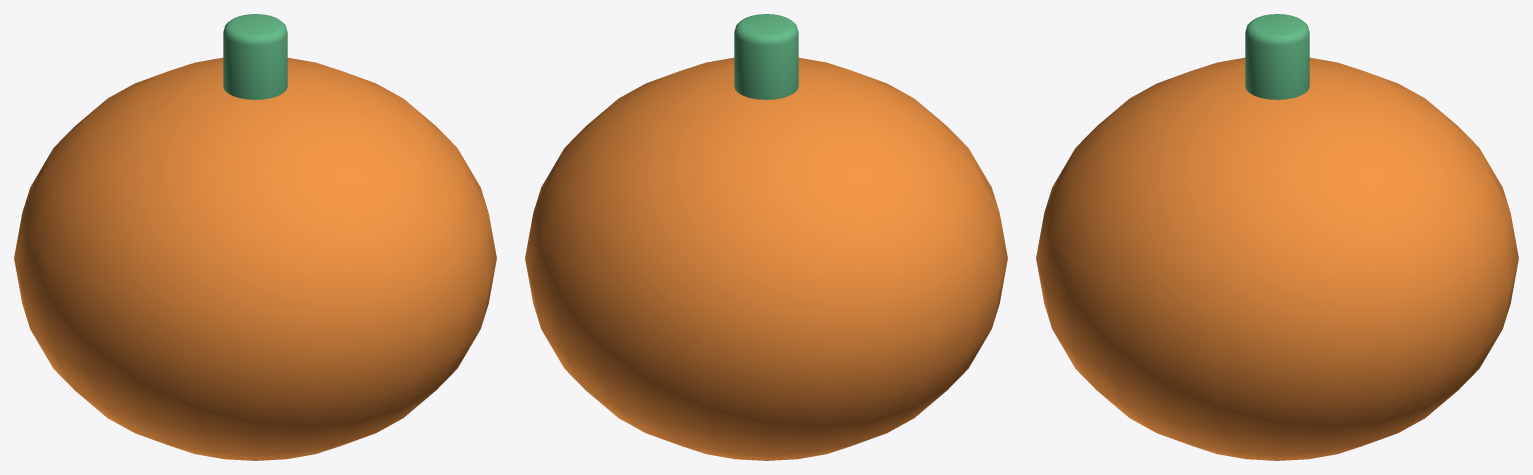
Rendered from pumpkin.glb.
3 views of the same model, side by side, from view 1: azimuth 30°, elevation 25°; view 2: azimuth 150°, elevation 25°; view 3: azimuth 270°, elevation 25° (orthographic).
Visible parts, largest first — view 1: pumpkin; view 2: pumpkin; view 3: pumpkin.
Boxes of the visible parts, box(x1,y1,x2,y2) form: pumpkin: box(14, 14, 496, 460); pumpkin: box(525, 14, 1007, 460); pumpkin: box(1036, 14, 1518, 460).
Bounding box in the file's own units: 0.6 × 0.56 × 0.6.
